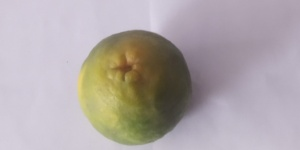BAD: (76, 27, 191, 147)
